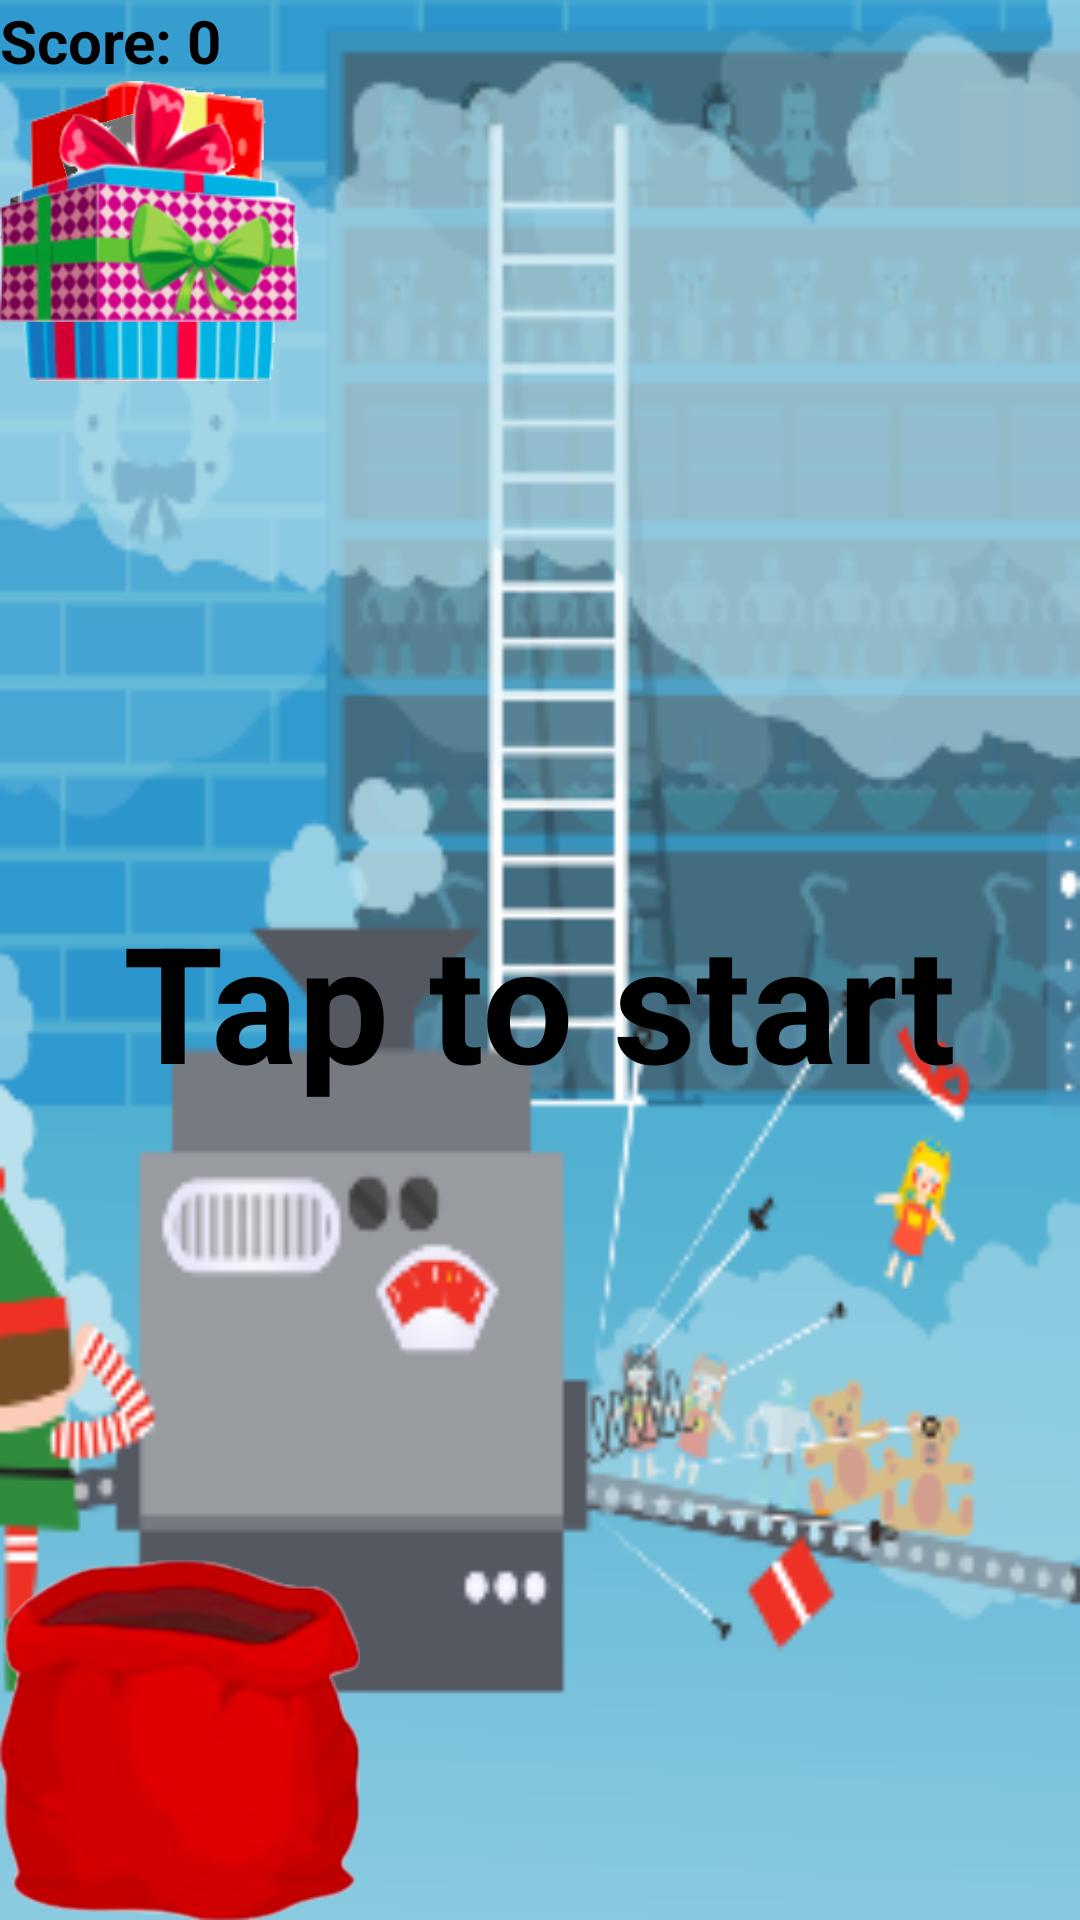

Point at icon controls on the screen. Image size 1080px x 1920px, points as (x=x, y=y).
bag: (x=180, y=1740)
